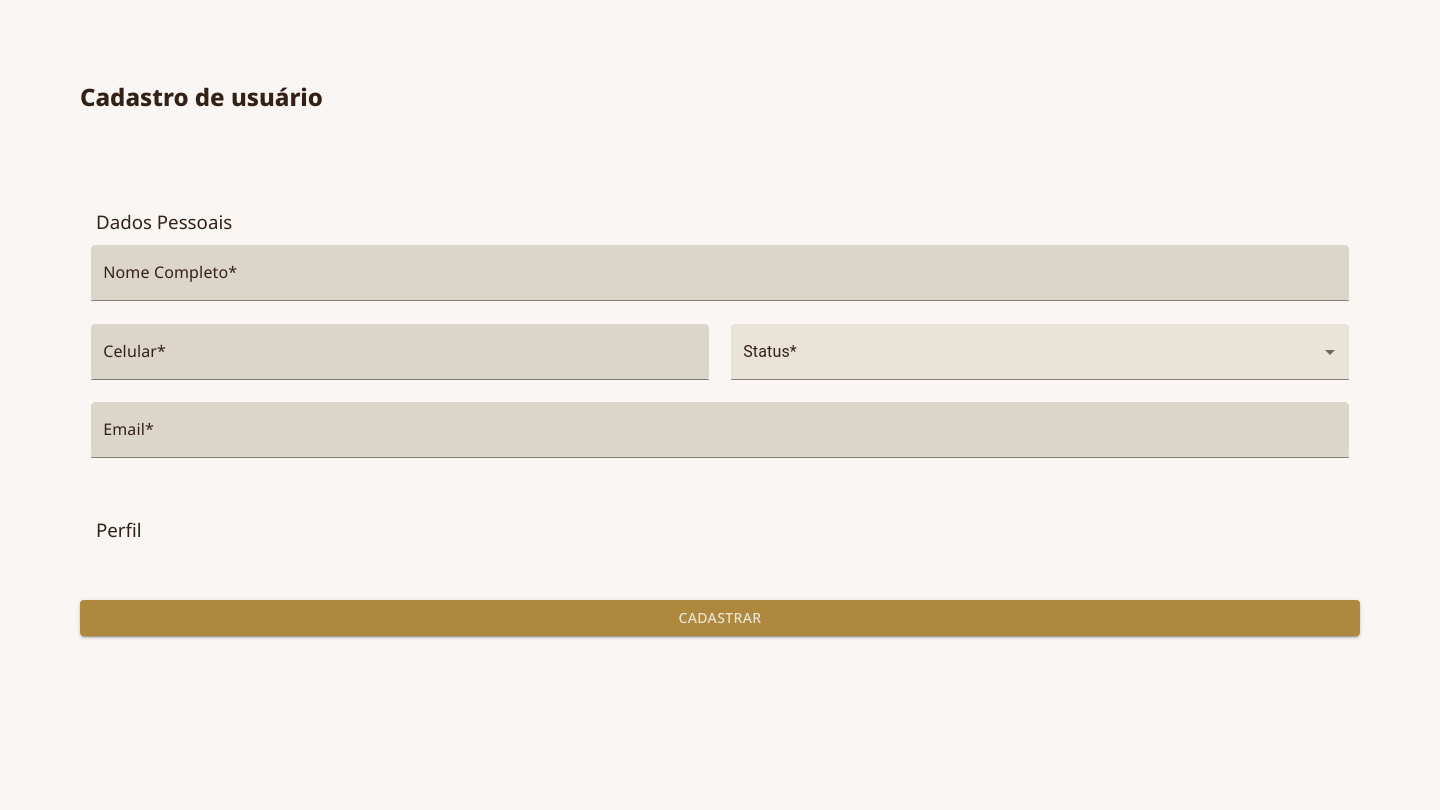
it: UserCreatePage › validates email format
This screenshot has width=1440, height=810.
In the field labelled "Email*": (720, 430) [91,402,1349,458], type "invalid-email"
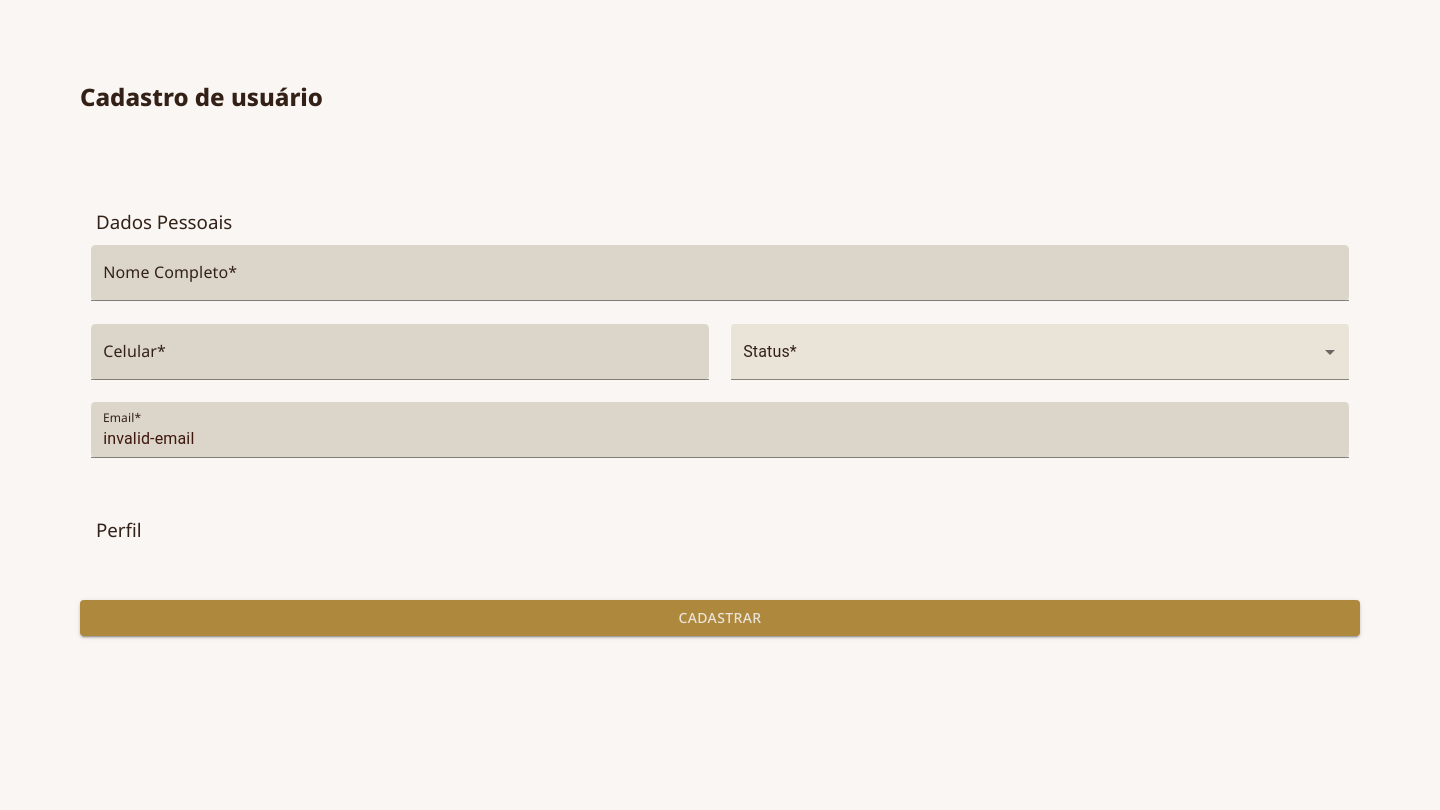
Click the button "Cadastrar": (720, 618) [80,600,1360,636]
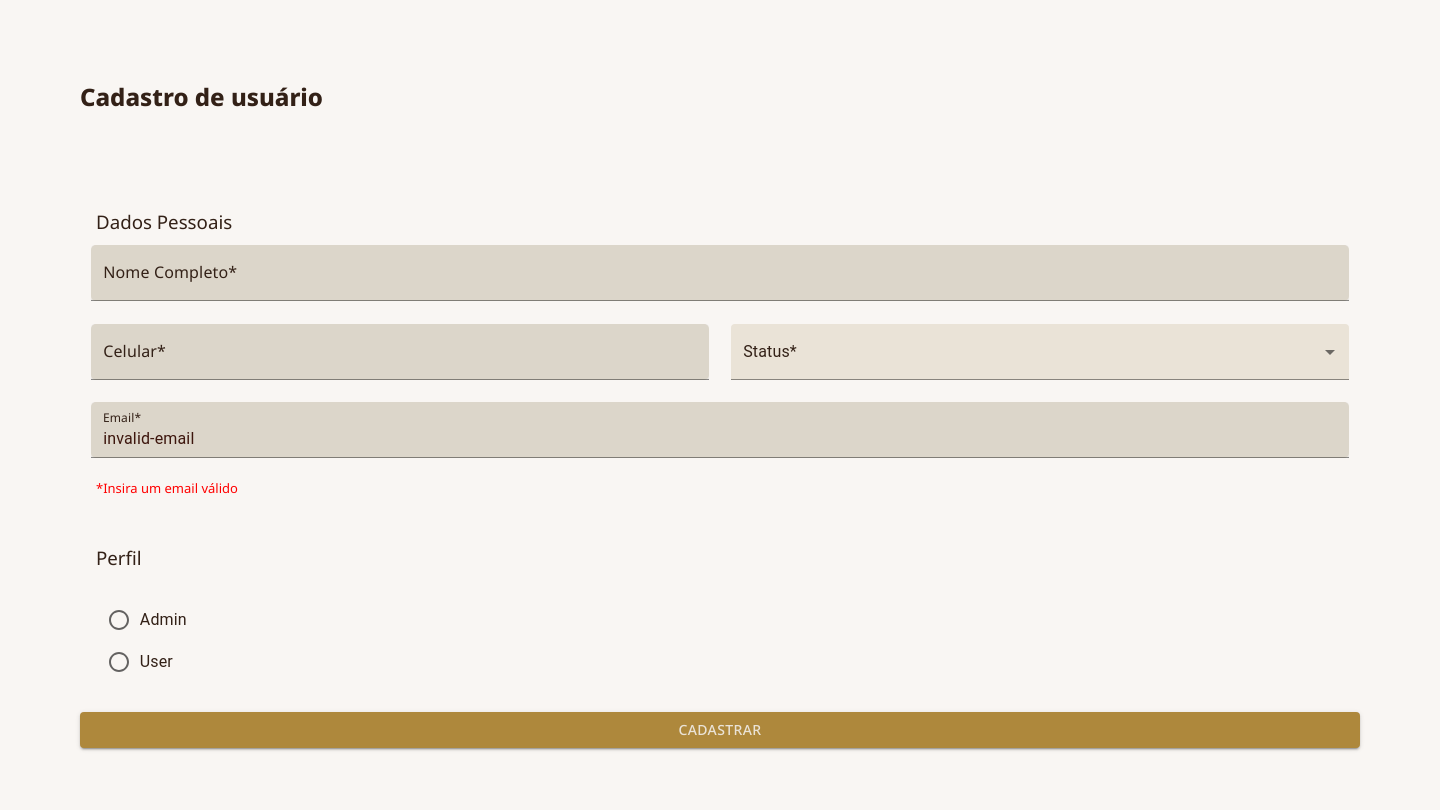
Check: the text "*Insira um email válido" is shown, box [96,479,238,497]
